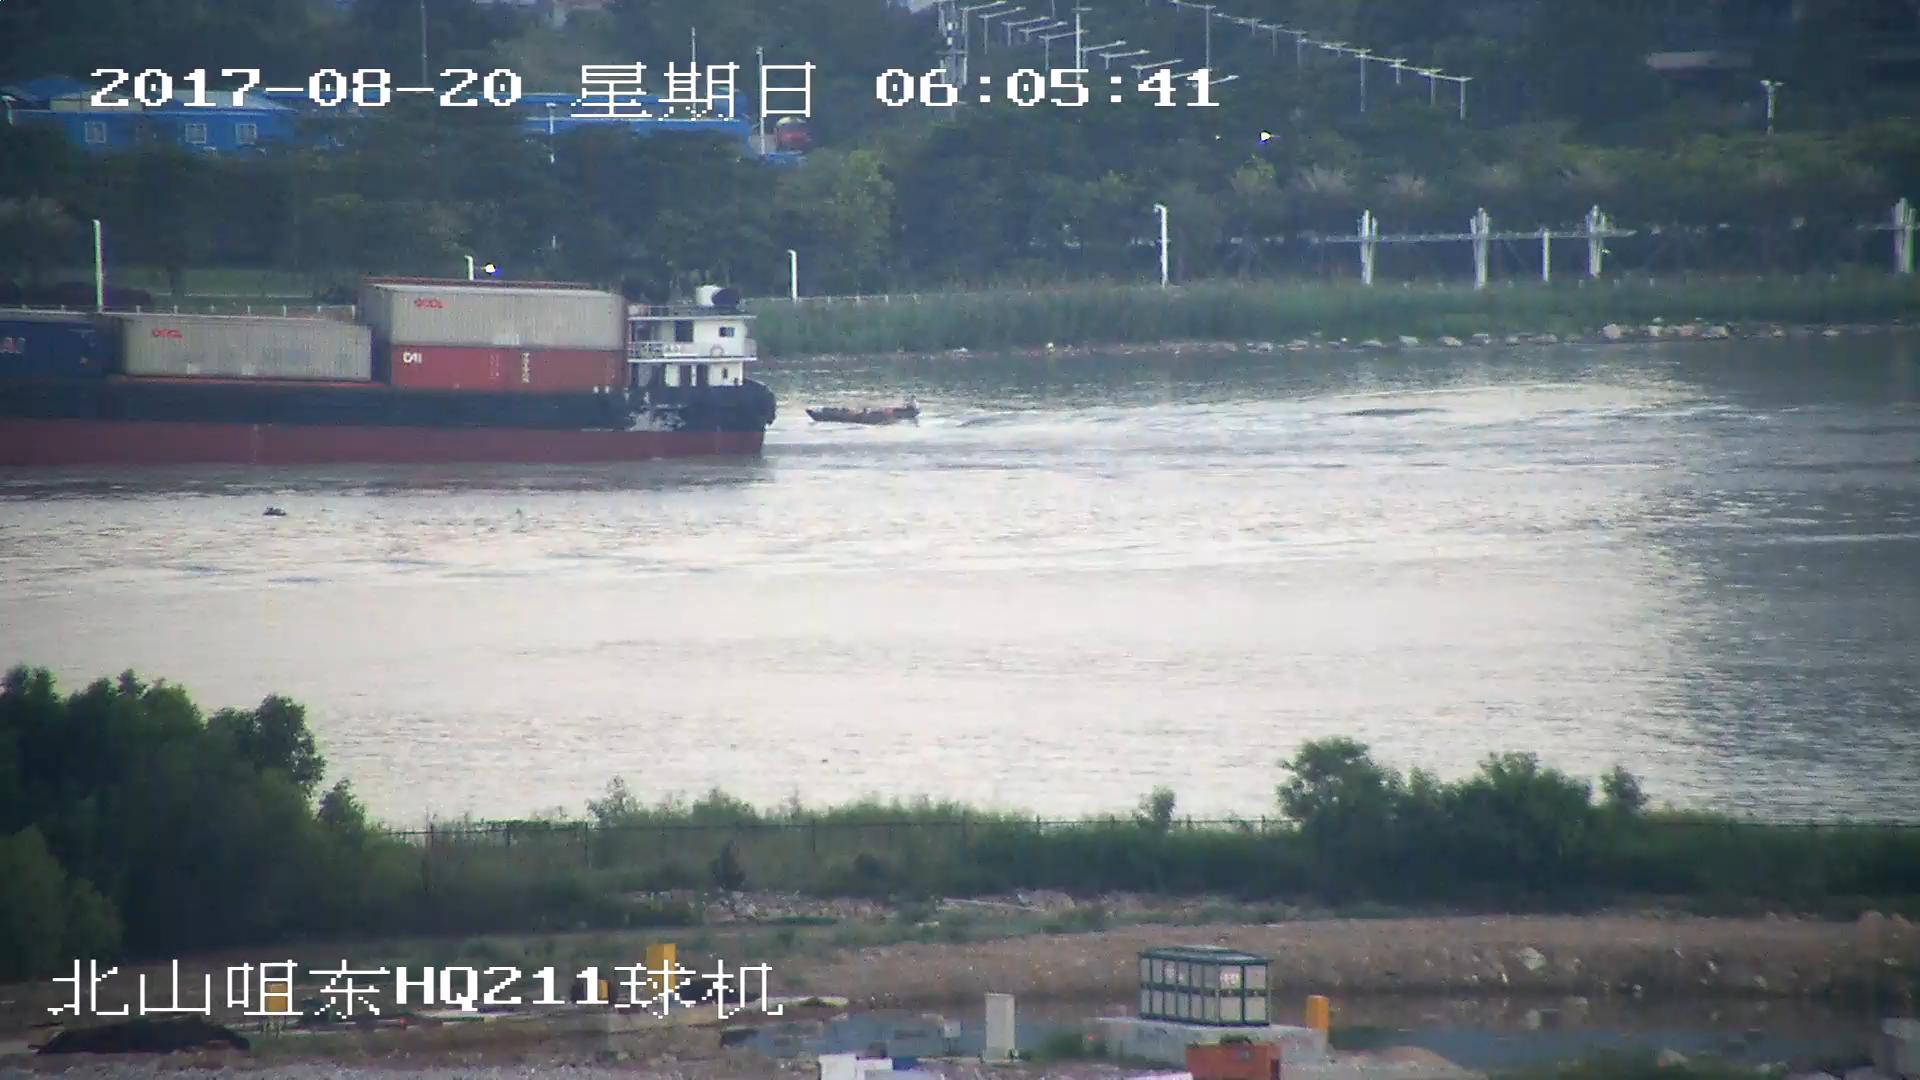container ship: (1, 267, 767, 467)
fishing boat: (803, 395, 922, 427)
